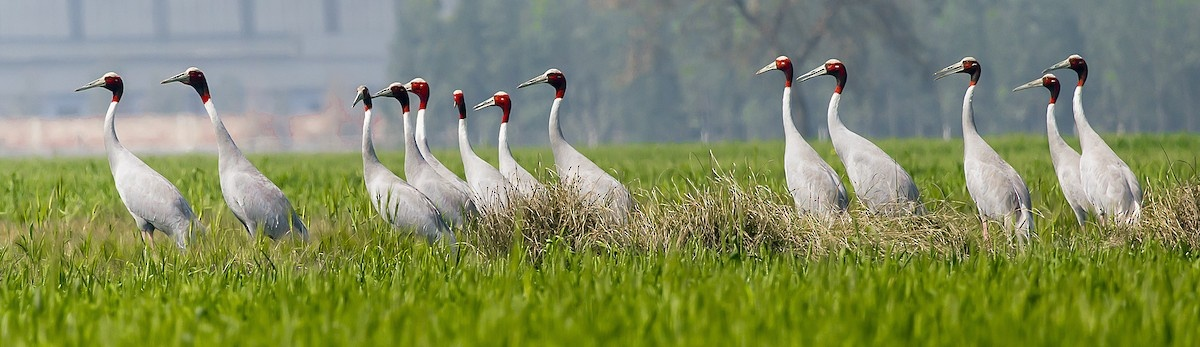crane: (163, 47, 301, 245), (70, 66, 194, 255), (805, 42, 923, 214), (515, 64, 639, 213), (1051, 48, 1154, 227), (931, 46, 1030, 229), (760, 46, 839, 228), (1009, 65, 1073, 186), (473, 76, 535, 199), (377, 82, 427, 175), (350, 81, 383, 191), (408, 76, 445, 172), (449, 78, 481, 182)
